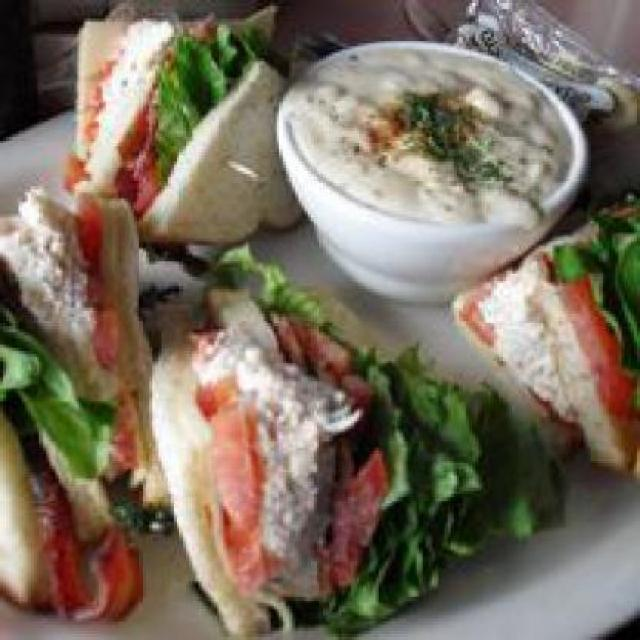clam chowder: (286, 41, 600, 264)
club sandwich: (3, 3, 637, 615)
